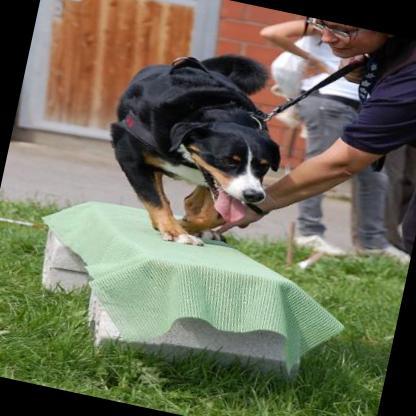Appenzeller: (87, 26, 300, 260)
